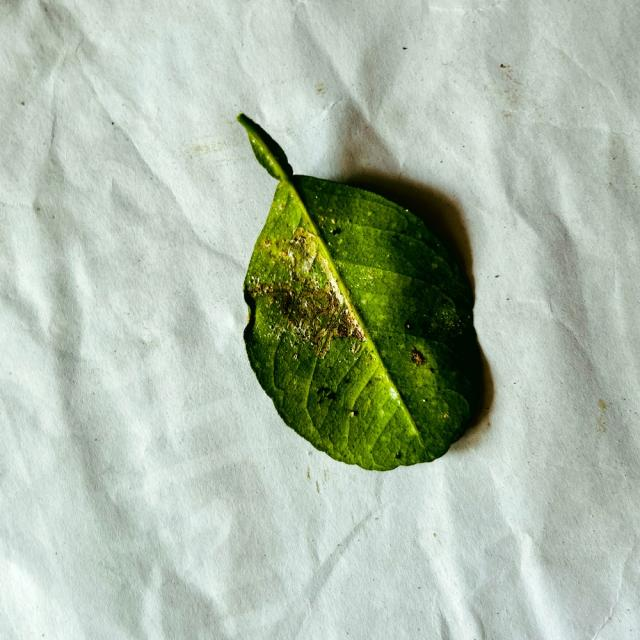Bacterial_Blight: (256, 232, 358, 353), (253, 277, 299, 319), (410, 341, 438, 372), (290, 233, 316, 265), (337, 309, 362, 341), (246, 273, 272, 301), (278, 291, 296, 316), (321, 217, 342, 237), (316, 387, 337, 406), (409, 347, 426, 365), (281, 248, 296, 265), (291, 235, 304, 247), (293, 227, 306, 238), (350, 342, 361, 355), (363, 353, 373, 366), (337, 327, 348, 338), (317, 395, 328, 405), (330, 226, 341, 235), (348, 409, 359, 417), (262, 239, 271, 248), (292, 353, 299, 360), (405, 323, 412, 329), (422, 398, 427, 403)
Lemon: (235, 116, 493, 474)
